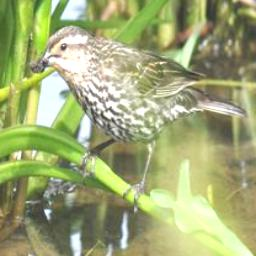Sparrow: (33, 25, 250, 209)
